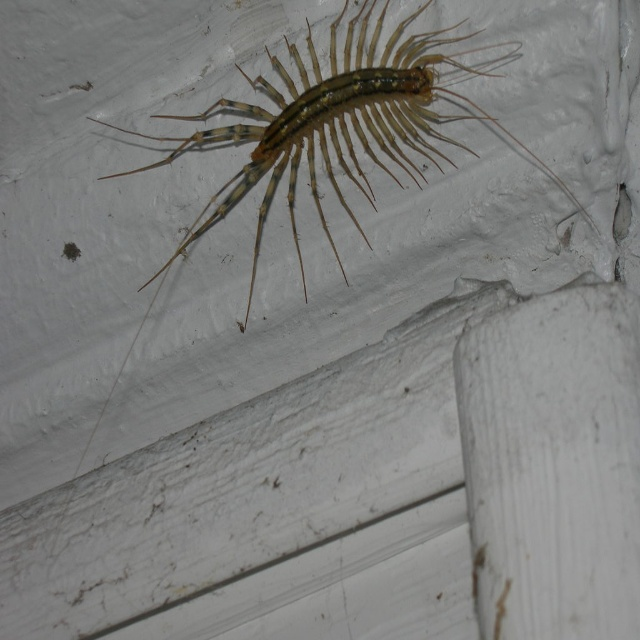Centipede: (97, 0, 601, 330)
